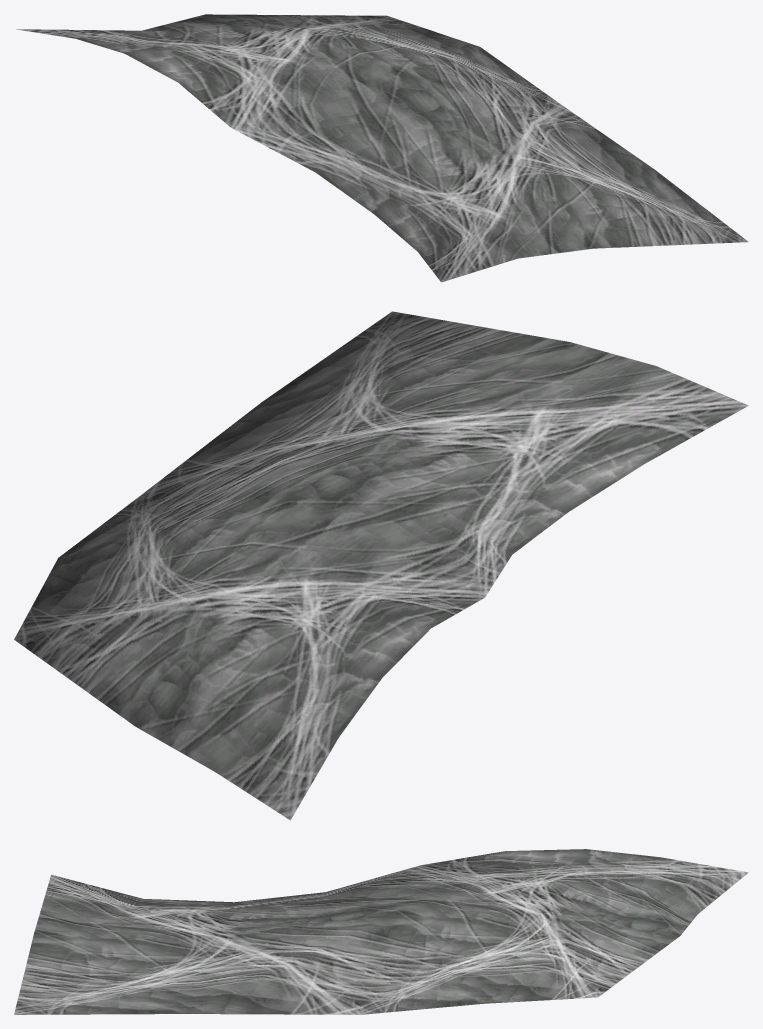
File: SWORDLIGHT20_PS-AREA01_41.fbx
The picture shows the model from 3 angles, top to bottom: view 1: azimuth 30°, elevation 25°; view 2: azimuth 150°, elevation 25°; view 3: azimuth 270°, elevation 25°; orthographic projection. The views are drawn at different scales.
Visible parts, largest first — view 1: SWORDLIGHT20_PS-AREA01_41; view 2: SWORDLIGHT20_PS-AREA01_41; view 3: SWORDLIGHT20_PS-AREA01_41.
Boxes of the visible parts, x1,y1,x2,y2 form: SWORDLIGHT20_PS-AREA01_41: (16,14,748,282); SWORDLIGHT20_PS-AREA01_41: (14,311,748,820); SWORDLIGHT20_PS-AREA01_41: (14,849,748,1014).
Size of the model in its own units: 71076 by 11443 by 150756.
1 material, 1 textured.
